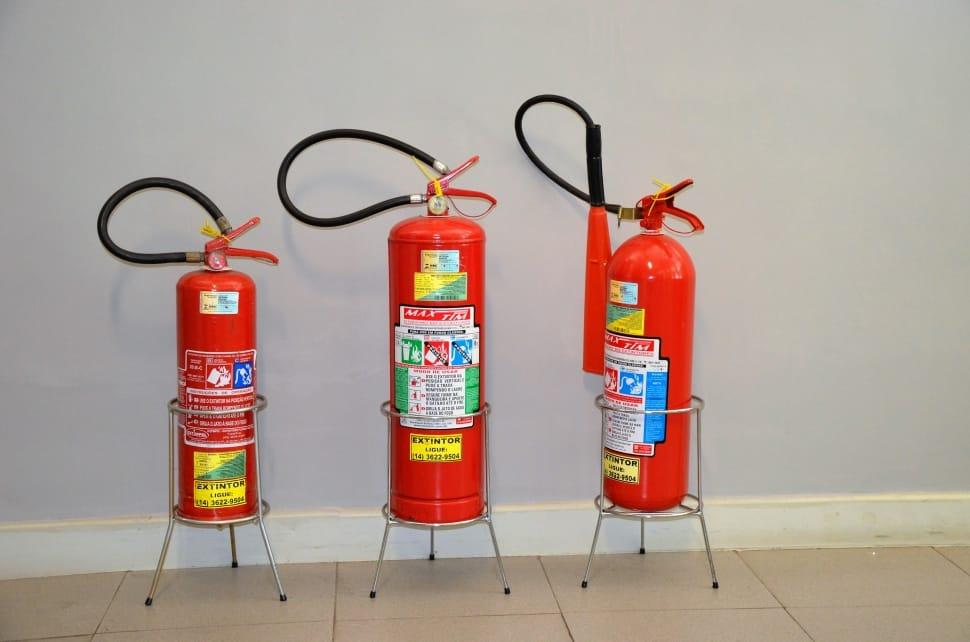Fire Extinguisher: (280, 127, 510, 547), (522, 93, 710, 528), (90, 148, 275, 540)
